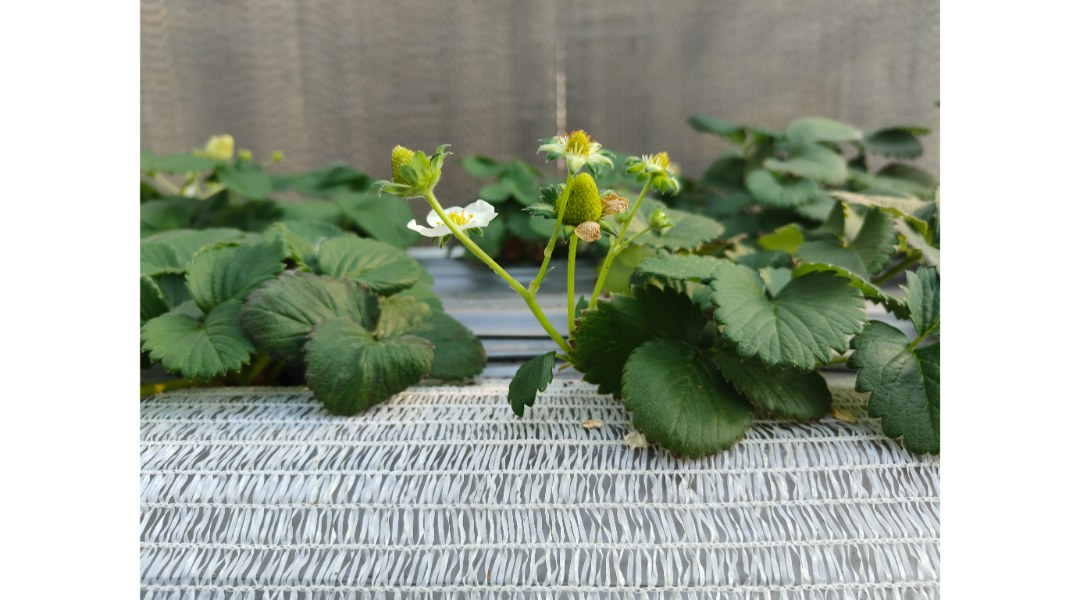berry: (556, 167, 607, 229)
flower: (403, 200, 504, 236), (537, 130, 610, 175), (625, 149, 688, 195)
strain: (466, 244, 524, 289), (617, 184, 647, 238), (532, 236, 558, 295), (533, 307, 565, 352), (567, 234, 579, 340), (588, 255, 610, 307)
